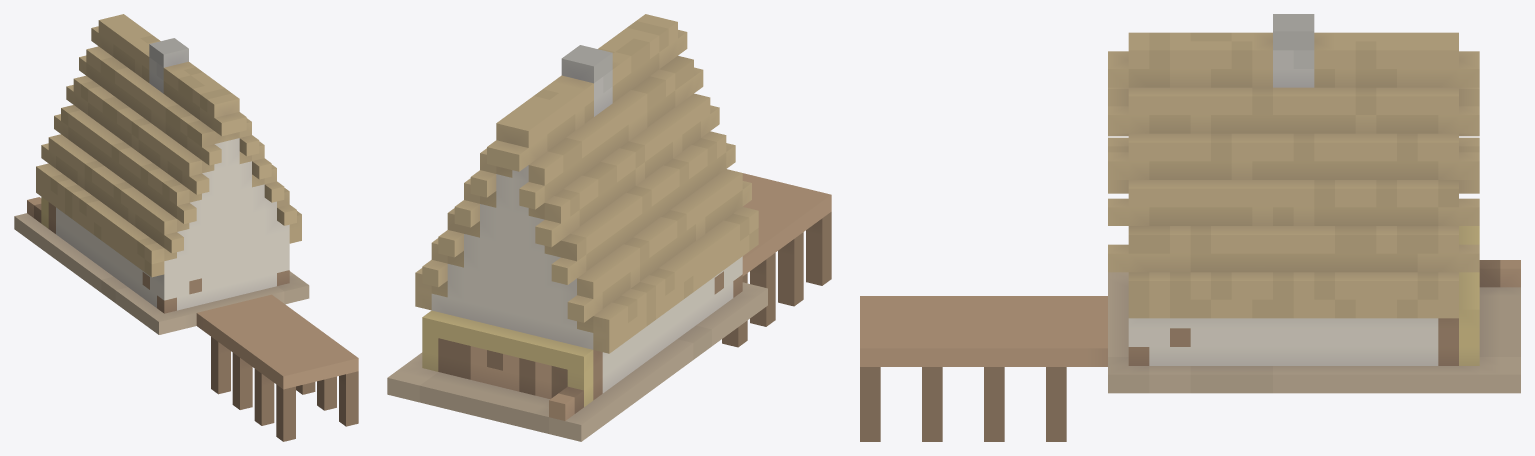
File: fisher.lite.glb
3 renders of one model, left to right at view 1: azimuth 30°, elevation 25°; view 2: azimuth 150°, elevation 25°; view 3: azimuth 270°, elevation 25°, orthographic. The views are drawn at different scales.
Parts seen in each view (by area): view 1: fisher; view 2: fisher; view 3: fisher.
Part boxes in pixels (x1,y1,x2,y2): fisher: [14, 14, 358, 441]; fisher: [387, 14, 831, 441]; fisher: [860, 14, 1520, 441].
Size of the model in its own units: 3 by 5.25 by 8.
